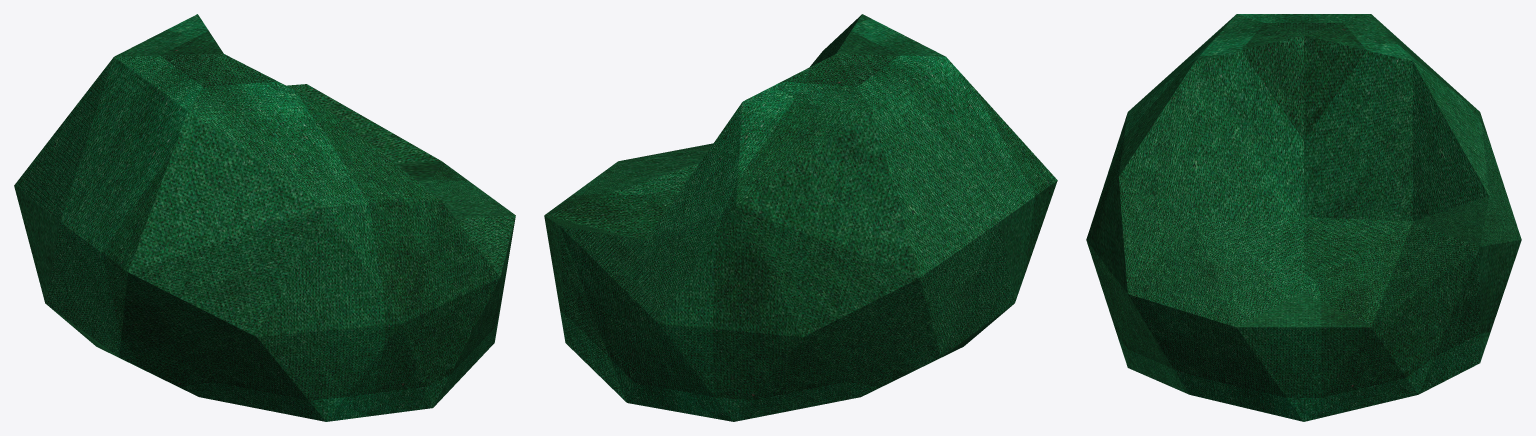
File: Bean Bag (Yes, I'm serious; I'm losing my mind).fbx
3 views of the same model, side by side, from view 1: azimuth 30°, elevation 25°; view 2: azimuth 150°, elevation 25°; view 3: azimuth 270°, elevation 25° (orthographic). The views are drawn at different scales.
Parts seen in each view (by area): view 1: Icosphere; view 2: Icosphere; view 3: Icosphere.
Part boxes in pixels (left/top/right/bottom): Icosphere: left=14, top=14, right=515, bottom=421; Icosphere: left=544, top=14, right=1057, bottom=421; Icosphere: left=1086, top=14, right=1521, bottom=421.
Bounding box in the file's own units: 602 × 439 × 597.
